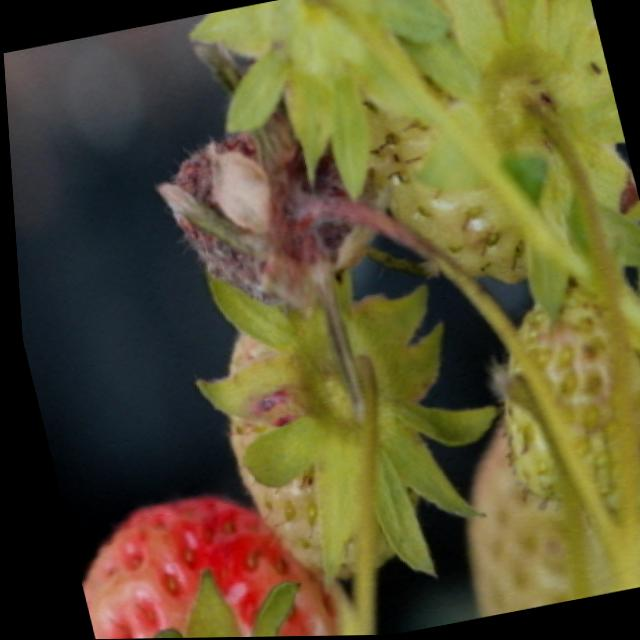Gray Mold: (147, 97, 416, 303)
